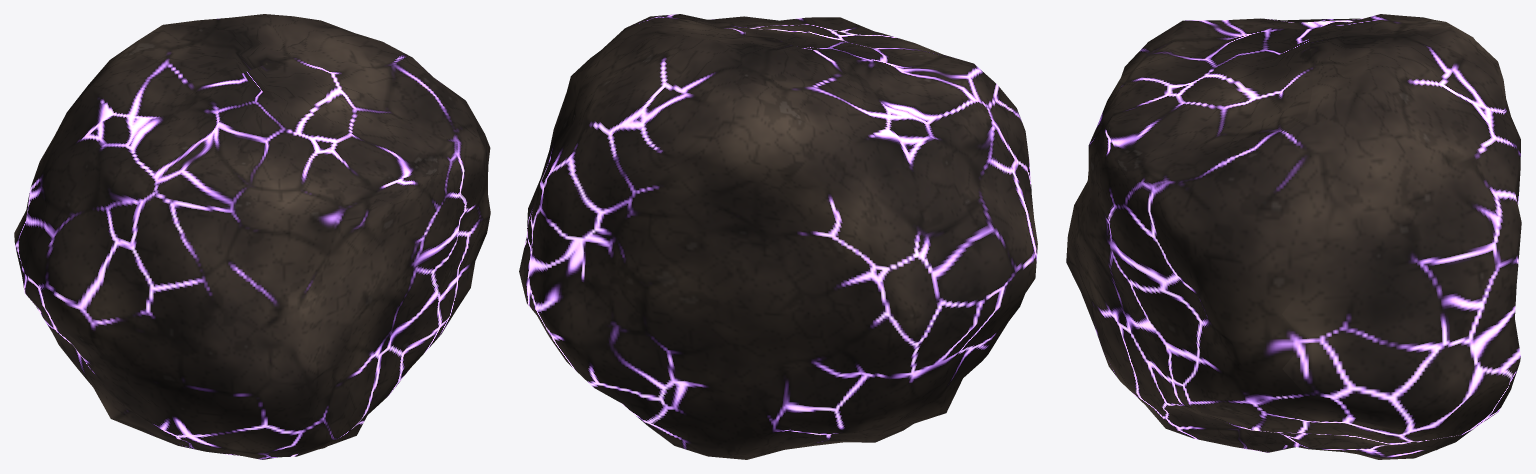
Rendered from rock_warm_arcane.glb.
The picture shows the model from 3 angles, left to right: view 1: azimuth 30°, elevation 25°; view 2: azimuth 150°, elevation 25°; view 3: azimuth 270°, elevation 25°; orthographic projection. The views are drawn at different scales.
Visible parts, largest first — view 1: rock; view 2: rock; view 3: rock.
Part boxes in pixels (left/top/right/bottom): rock: left=14, top=14, right=490, bottom=459; rock: left=519, top=14, right=1037, bottom=459; rock: left=1066, top=14, right=1521, bottom=459.
Bounding box in the file's own units: 2.04 × 1.74 × 1.71.
Materials: 1 (1 with a texture image).
